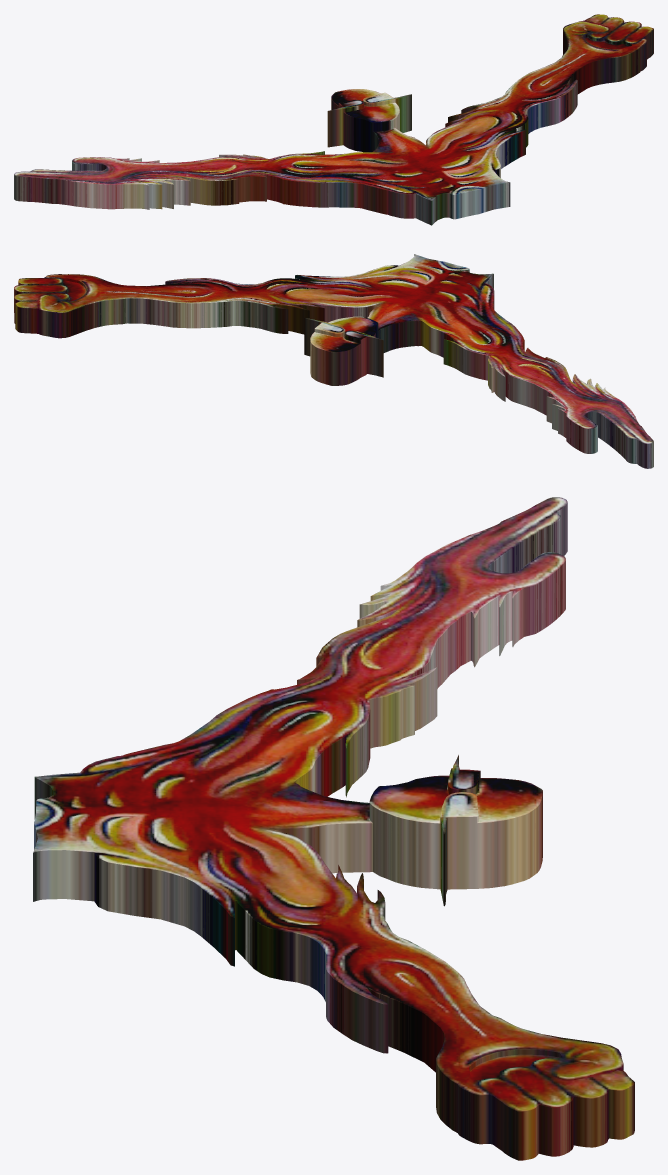
The model's file is muro el despertar del gigante 5.dae.
3 views of the same model, one above another, from view 1: azimuth 30°, elevation 25°; view 2: azimuth 150°, elevation 25°; view 3: azimuth 270°, elevation 25° (orthographic). The views are drawn at different scales.
Visible parts, largest first — view 1: SketchUp (×2); view 2: SketchUp (×2); view 3: SketchUp (×3).
Part boxes in pixels (<box>): SketchUp (×2): <box>14,14,653,225</box>; SketchUp (×2): <box>14,254,653,468</box>; SketchUp (×3): <box>33,497,634,1160</box>.
Size of the model in its own units: 103 by 42.48 by 5.69.
1 material, 1 textured.
